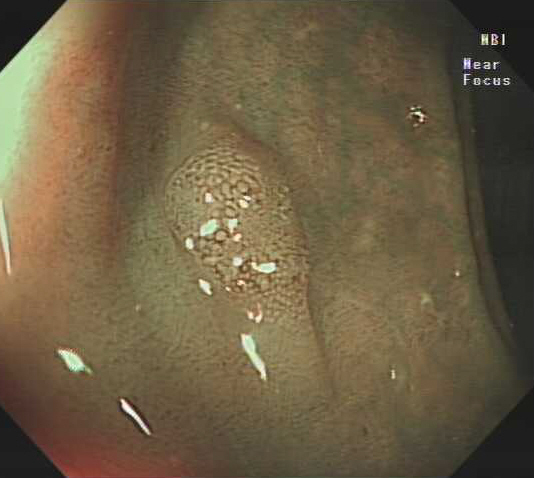adenoma: (159, 129, 313, 337)
